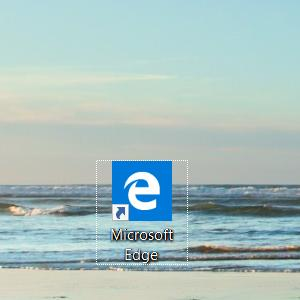edge: (112, 161, 172, 221)
